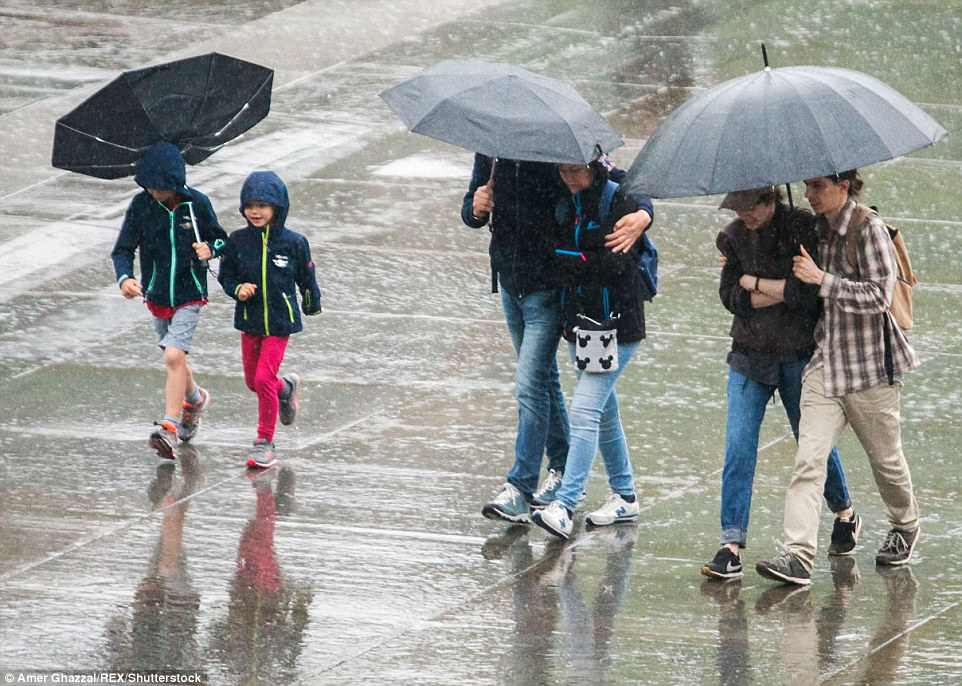person: (789, 170, 906, 592), (702, 186, 812, 585), (532, 159, 637, 537), (110, 165, 225, 463), (218, 169, 323, 470)
